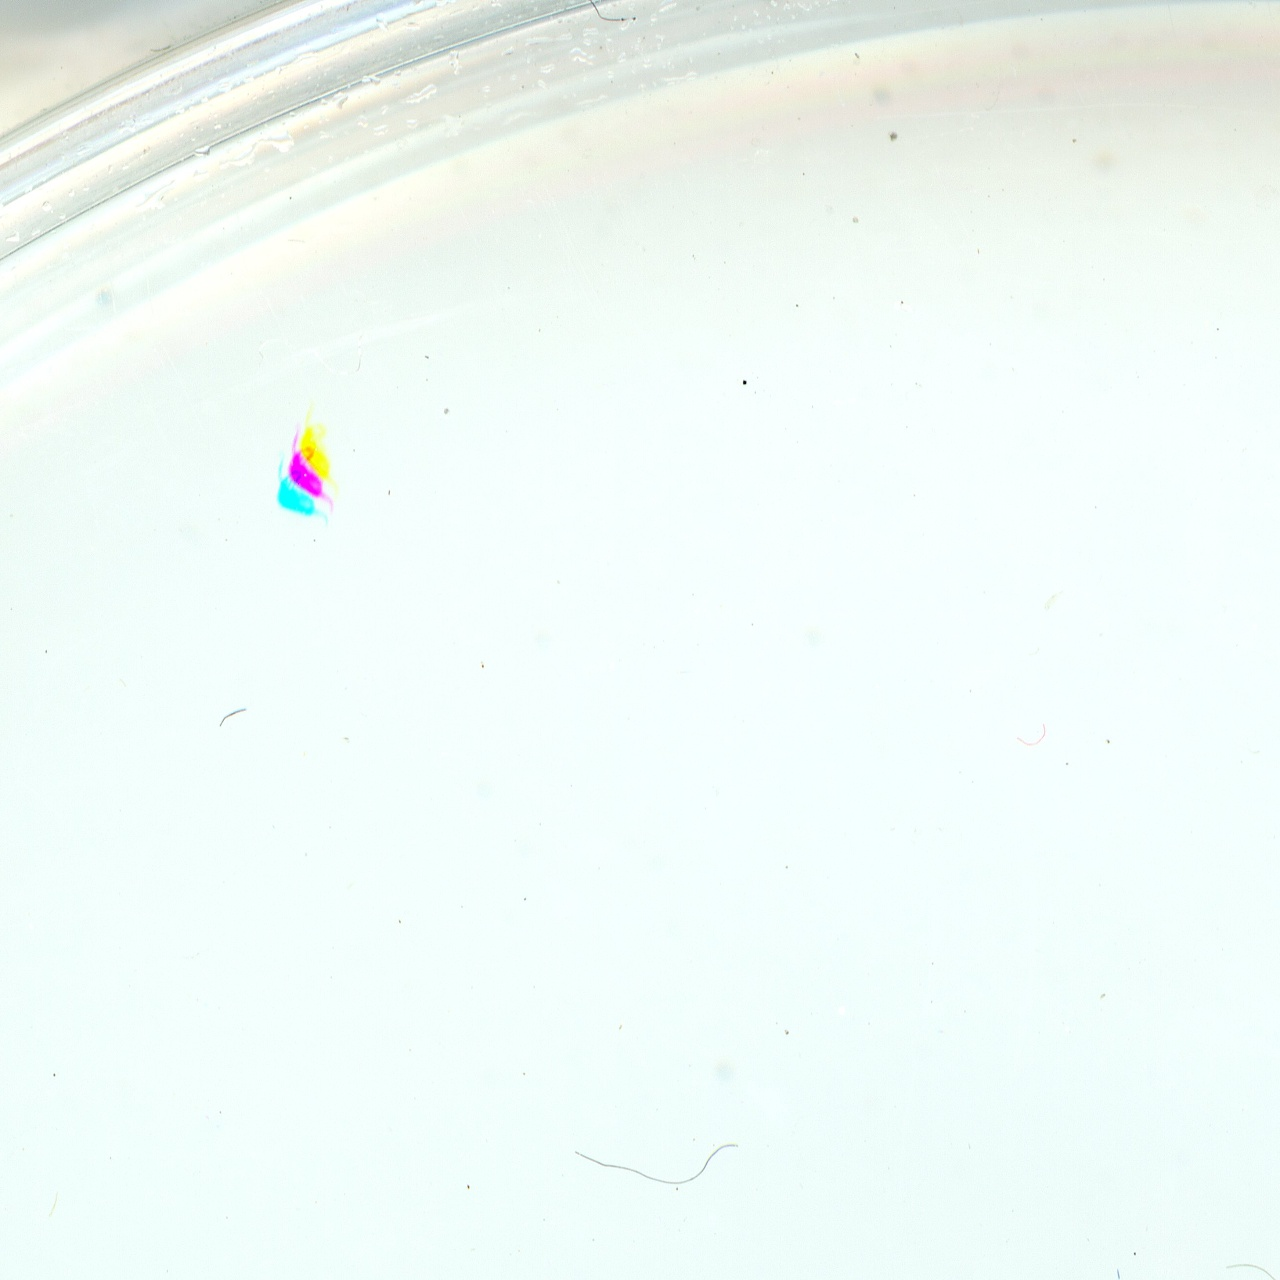arthropod: (271, 397, 349, 532)
